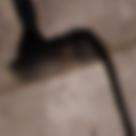brick: (0, 62, 123, 135), (110, 43, 135, 125)
broken_brick: (35, 0, 135, 35), (0, 0, 19, 71)
crack: (2, 0, 135, 135), (90, 124, 95, 135)
